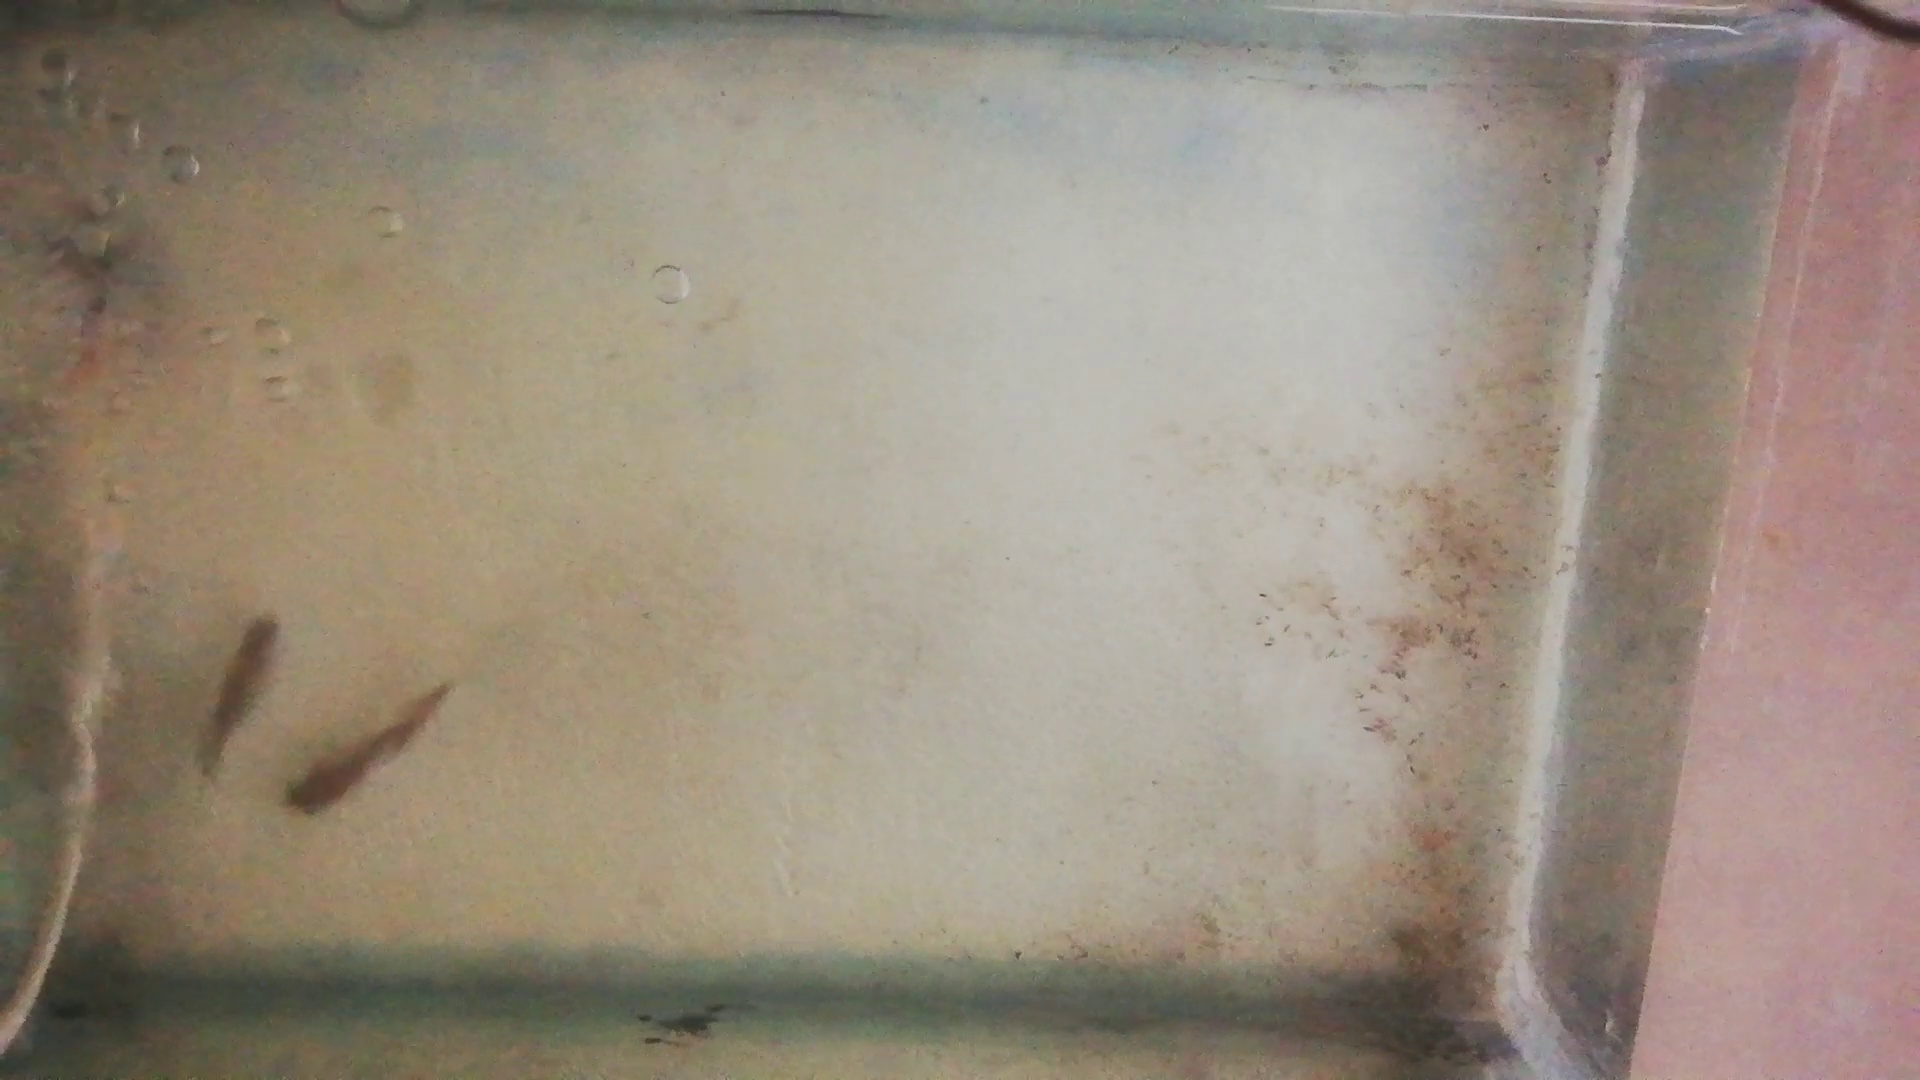fish: (284, 684, 450, 816), (195, 611, 284, 786)
